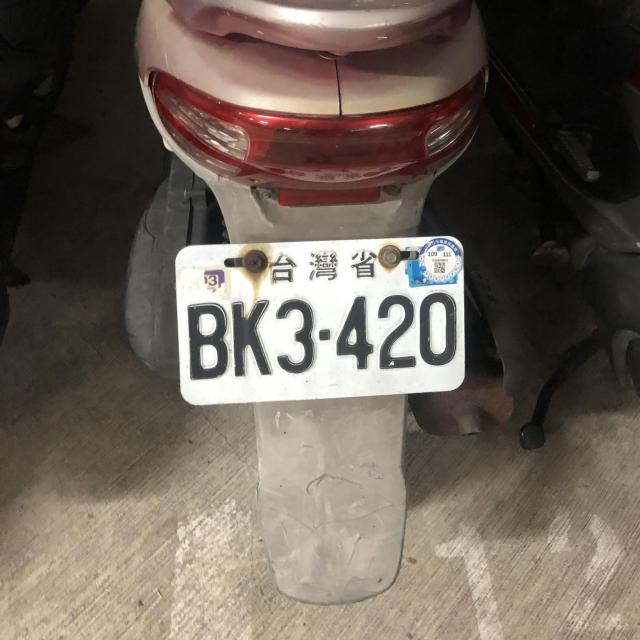W: (170, 231, 468, 404)
